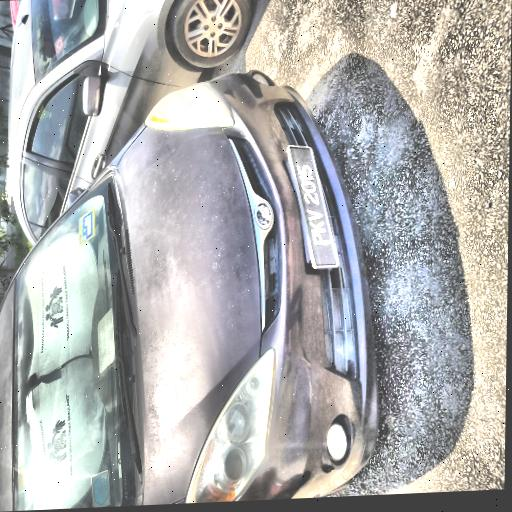license_plate: (289, 145, 336, 267)
